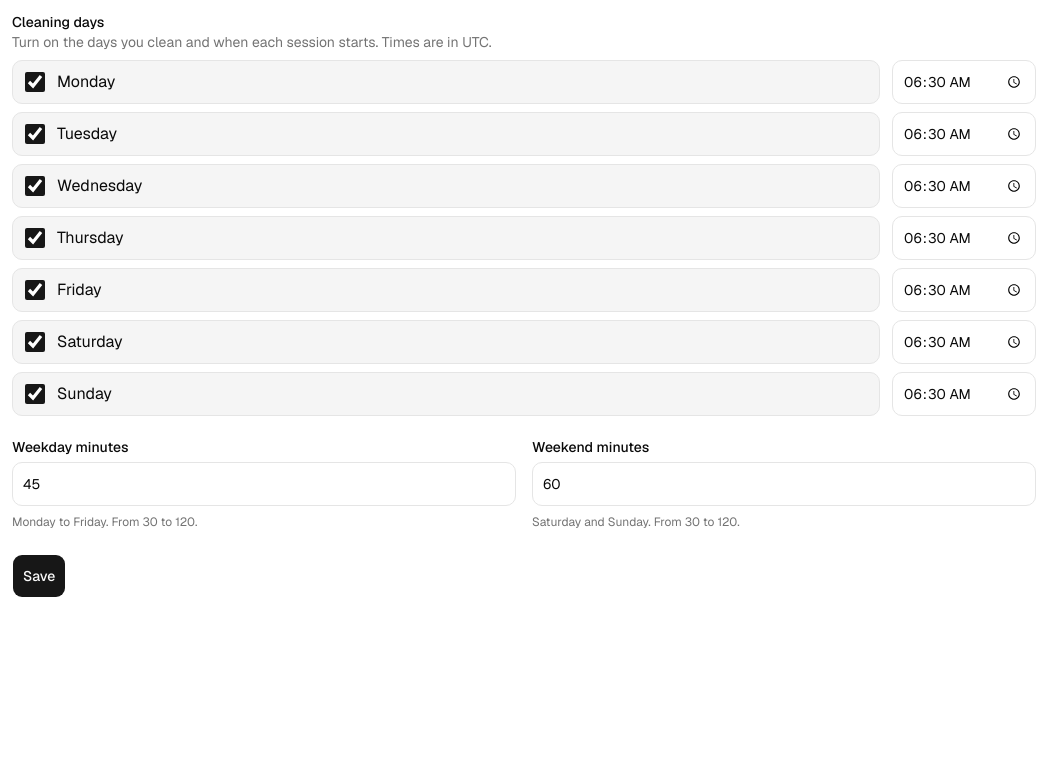
Scenario: ScheduleForm › AC1: shows the defaults and submits each day, the budgets, and the device time zone
Expected: the element "Cleaning days" is shown, [12,12,1036,416]
Expected: the checkbox labelled "Monday" is checked, [25,72,45,92]
Click the checkbox labelled "Wednesday". click: (35, 186)
box: [25,176,45,196]
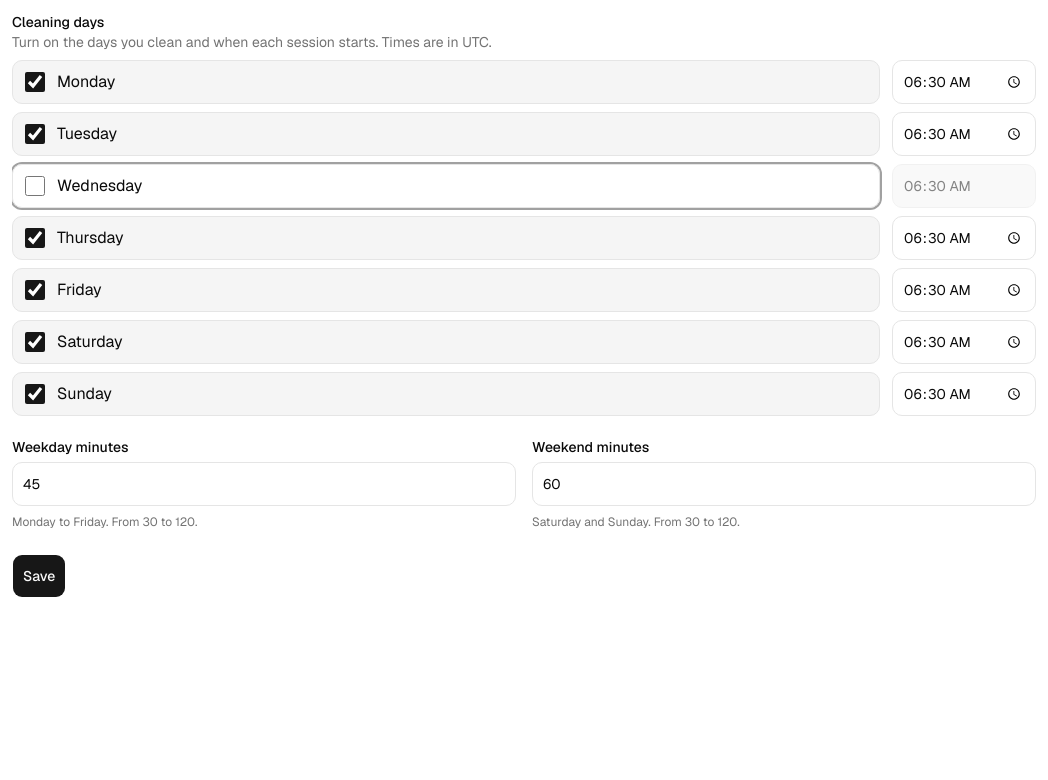
Expected: the time field named "Wednesday start time" is disabled, [892,164,1036,208]
Click the button "Save". click: (39, 576)
box: [12,554,66,598]
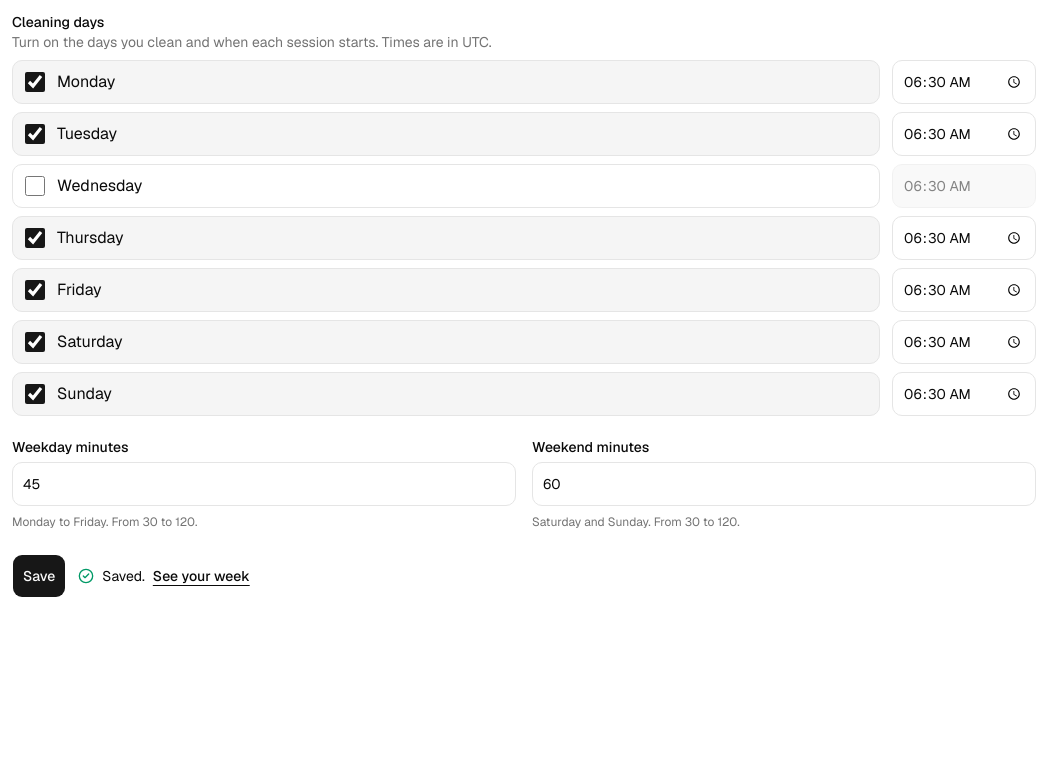
Expected: the message shows "Saved.", [102,567,145,585]
